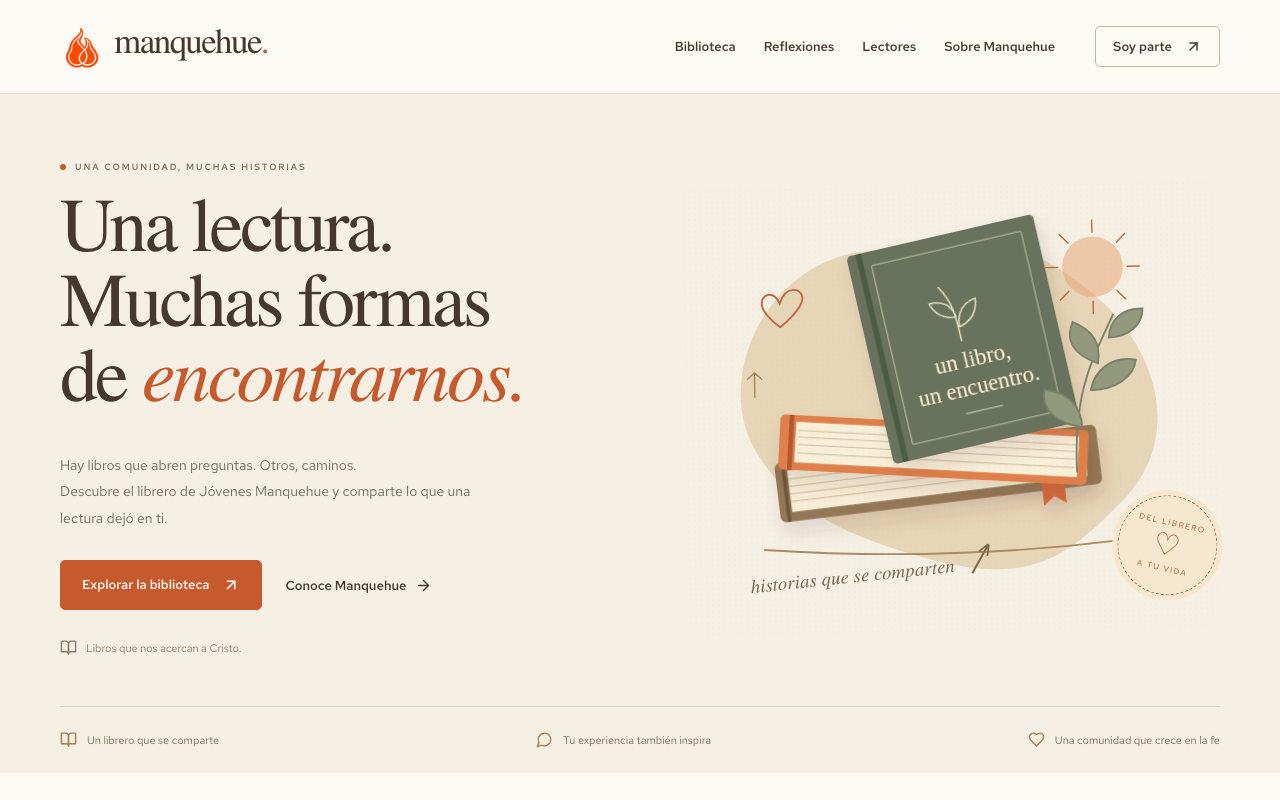
Test: Public site with no invented inventory › shows the real empty catalogue and navigates to the library
The width and height of the screenshot is (1280, 800).
Expected: the heading shows "Una lectura", [60,199,393,275]
Click the link "Explorar la biblioteca". click: {"x": 161, "y": 586}
box: [60,560,262,610]
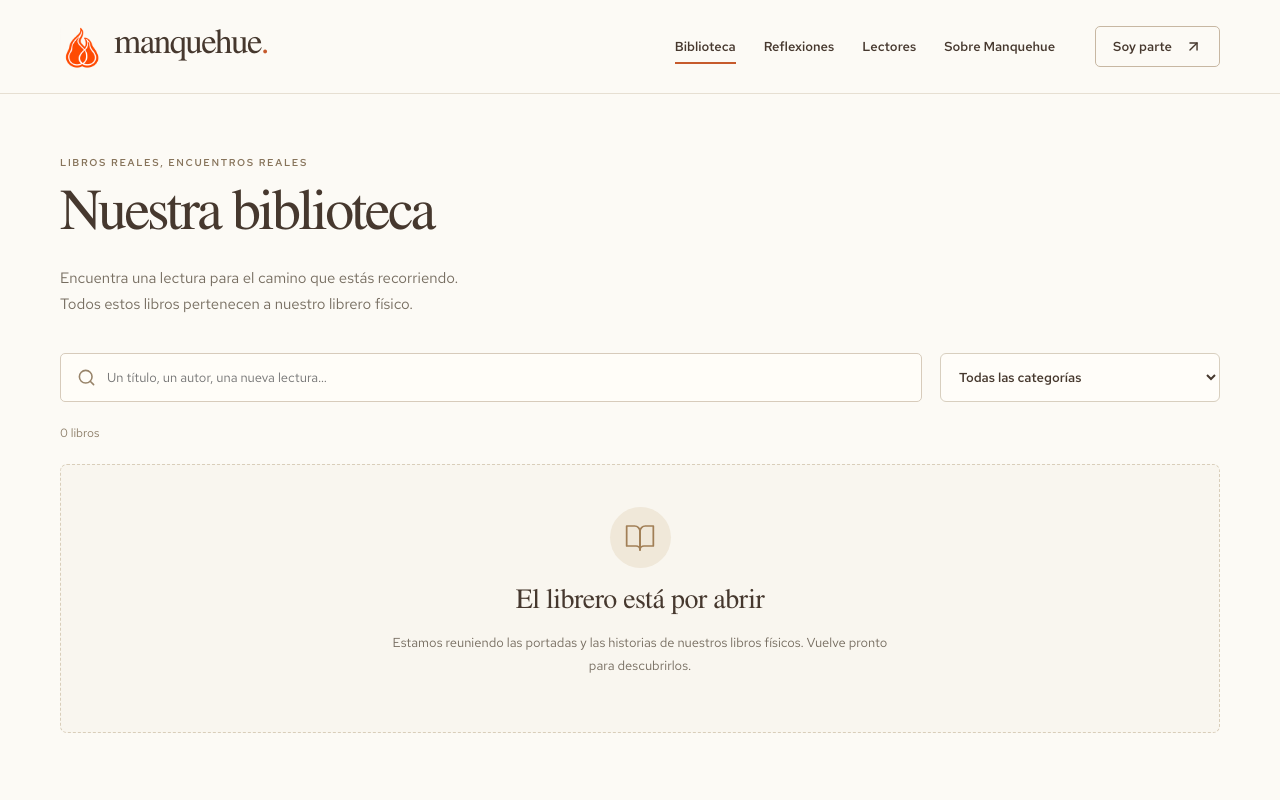
Expected: the heading "Nuestra biblioteca" is shown, [60,189,434,247]
Expected: the text "El librero está por abrir" is shown, [516,589,764,617]
